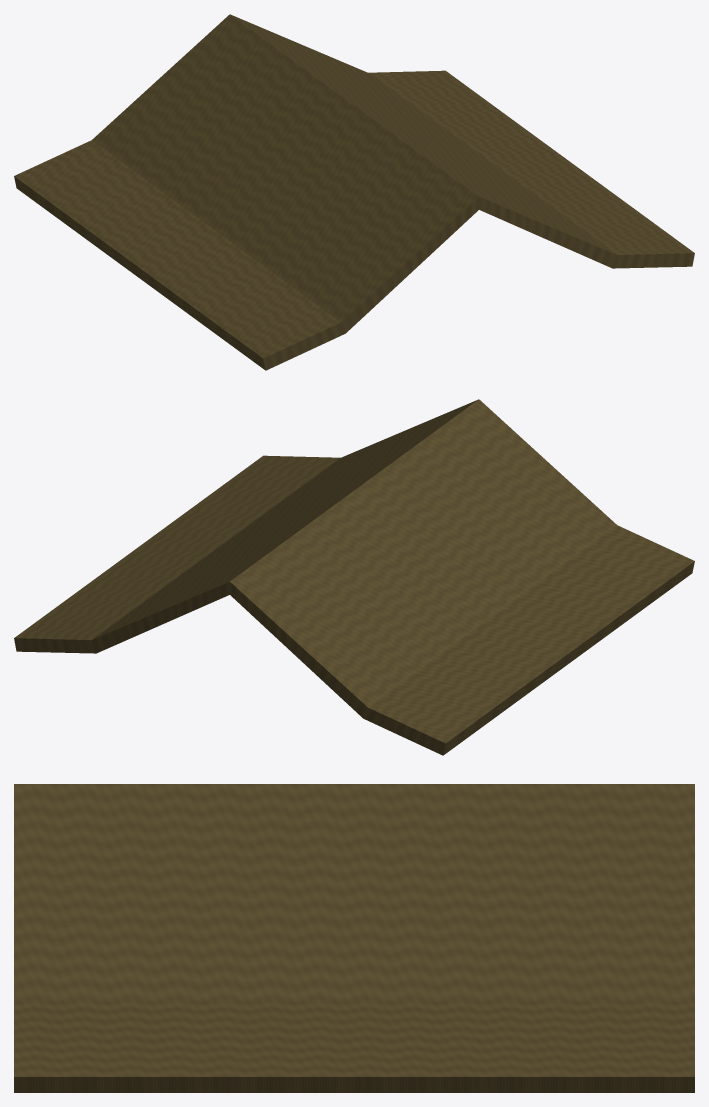
Rendered from module_roof_thatch_2m.glb.
The picture shows the model from 3 angles, top to bottom: view 1: azimuth 30°, elevation 25°; view 2: azimuth 150°, elevation 25°; view 3: azimuth 270°, elevation 25°; orthographic projection. The views are drawn at different scales.
Visible parts, largest first — view 1: thatch_roof; view 2: thatch_roof; view 3: thatch_roof.
Part boxes in pixels (<box>): thatch_roof: <box>14,14,694,370</box>; thatch_roof: <box>14,399,694,755</box>; thatch_roof: <box>14,784,694,1092</box>.
Size of the model in its own units: 2.4 by 0.6485 by 2.4.
1 material, 1 textured.
